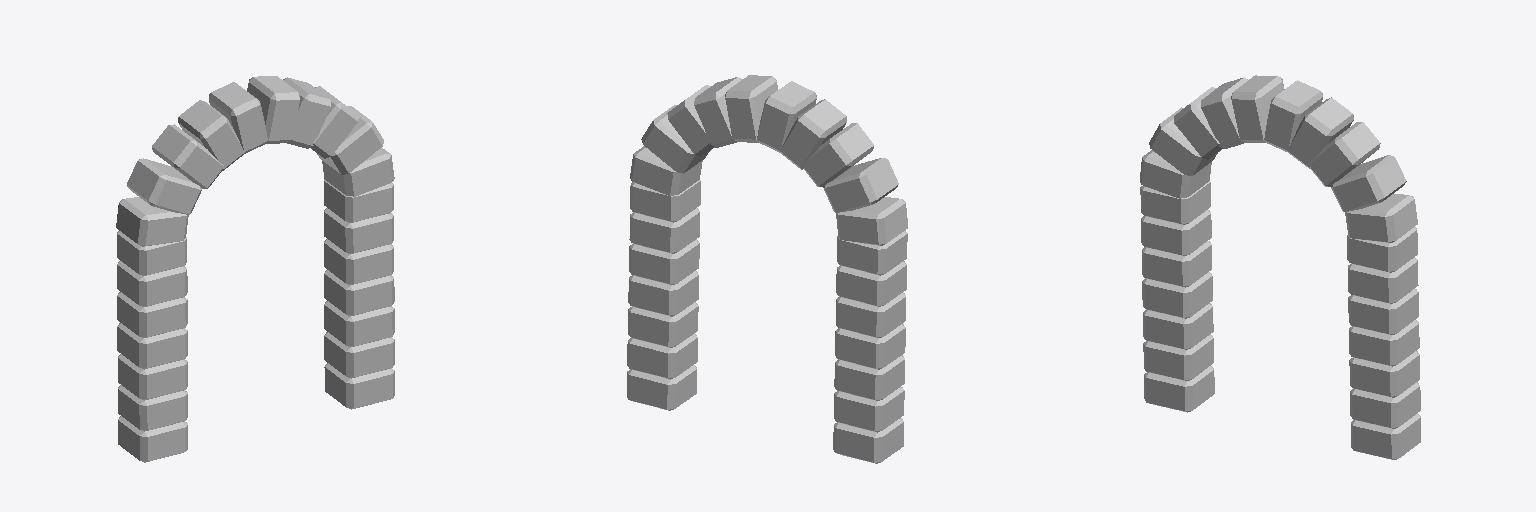
Rendered from arch.obj.
The picture shows the model from 3 angles: view 1: azimuth 30°, elevation 25°; view 2: azimuth 150°, elevation 25°; view 3: azimuth 330°, elevation 25°; orthographic projection.
Parts seen in each view (by area): view 1: arch_Cube.018; view 2: arch_Cube.018; view 3: arch_Cube.018.
Boxes of the visible parts, x1=… form: arch_Cube.018: x1=116, y1=76, x2=394, y2=462; arch_Cube.018: x1=627, y1=75, x2=907, y2=463; arch_Cube.018: x1=1140, y1=75, x2=1420, y2=459.
Size of the model in its own units: 2.58 by 3.25 by 0.518.